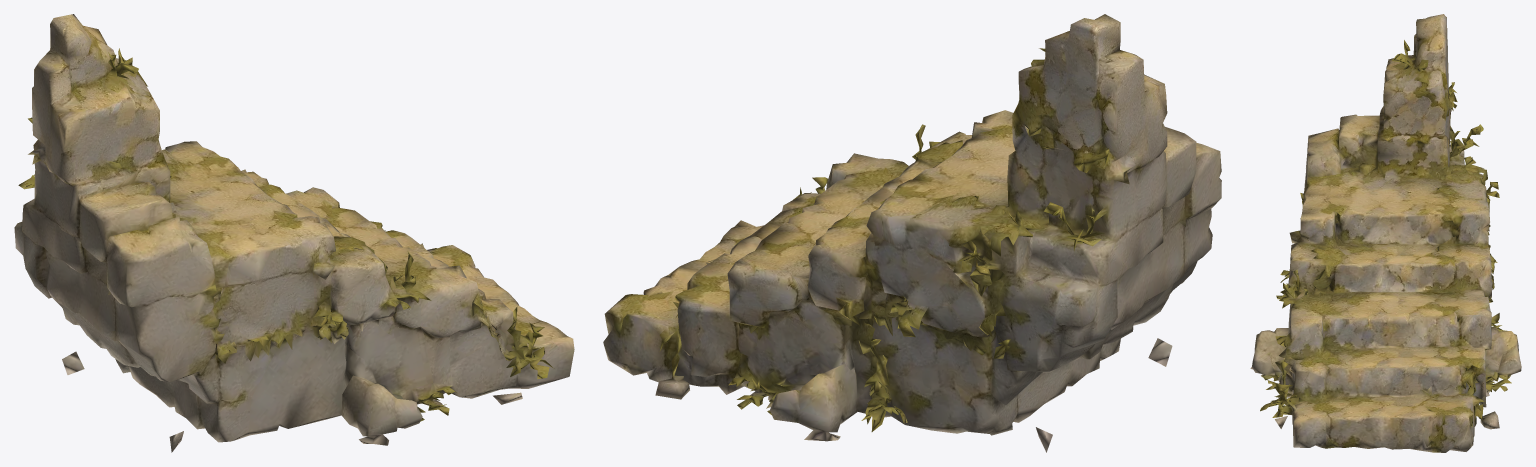
File: broken_stairs.glb
3 renders of one model, left to right at view 1: azimuth 30°, elevation 25°; view 2: azimuth 150°, elevation 25°; view 3: azimuth 270°, elevation 25°, orthographic. The views are drawn at different scales.
Parts seen in each view (by area): view 1: tripo_node_83c11590_5036_4284_8a99_c6804dc54a60__stairs; view 2: tripo_node_83c11590_5036_4284_8a99_c6804dc54a60__stairs; view 3: tripo_node_83c11590_5036_4284_8a99_c6804dc54a60__stairs.
Boxes of the visible parts, bbox=[...] form: tripo_node_83c11590_5036_4284_8a99_c6804dc54a60__stairs: bbox=[14, 14, 574, 452]; tripo_node_83c11590_5036_4284_8a99_c6804dc54a60__stairs: bbox=[603, 14, 1221, 452]; tripo_node_83c11590_5036_4284_8a99_c6804dc54a60__stairs: bbox=[1250, 14, 1521, 452].
Size of the model in its own units: 1.9 by 1.6 by 1.35.
Materials: 1 (1 with a texture image).
